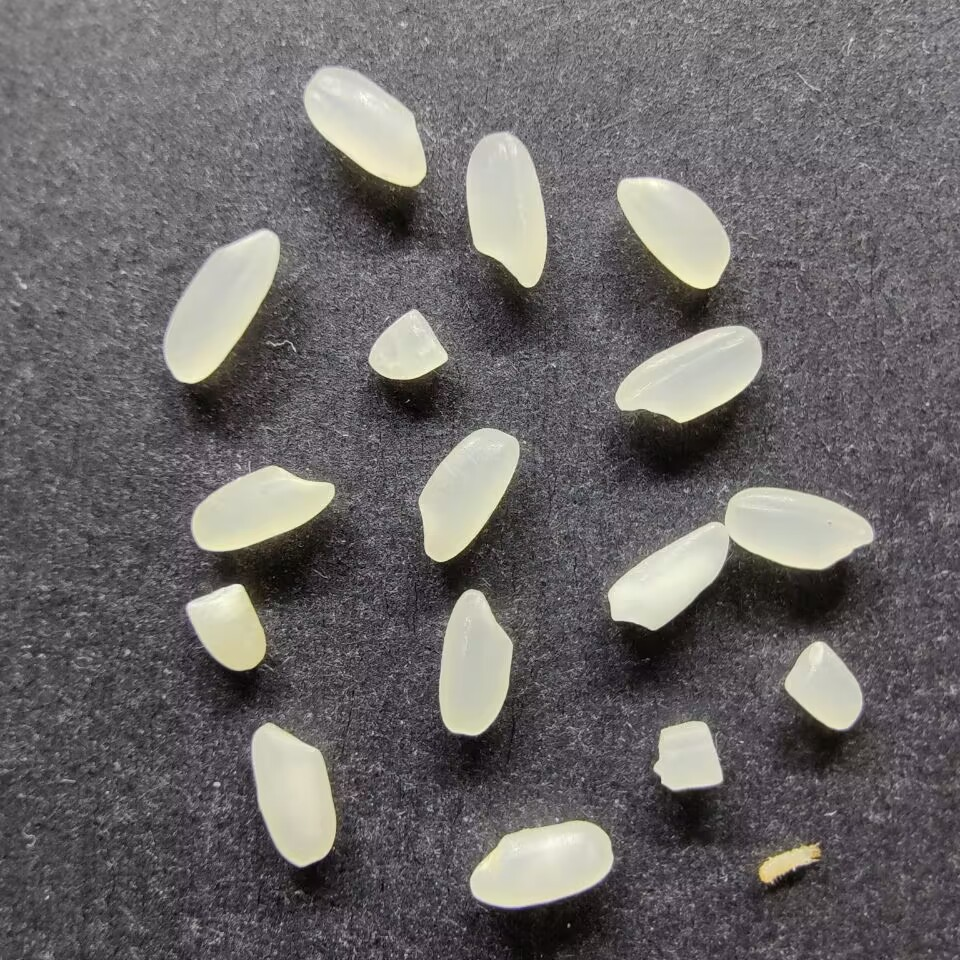broken: (783, 641, 864, 731), (185, 583, 266, 672), (367, 310, 448, 380), (652, 720, 722, 789)
others: (757, 840, 822, 885)
rice: (162, 227, 279, 384), (302, 66, 426, 186), (614, 324, 762, 424), (417, 426, 519, 562), (606, 520, 728, 631), (615, 176, 731, 290), (464, 131, 547, 288), (468, 819, 613, 908), (250, 721, 336, 868), (190, 465, 334, 552), (724, 486, 873, 570), (437, 586, 512, 736)
